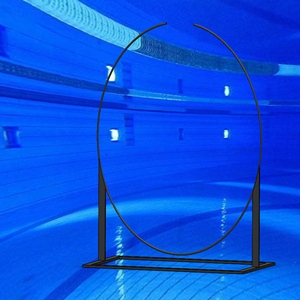circle: (81, 19, 278, 277)
